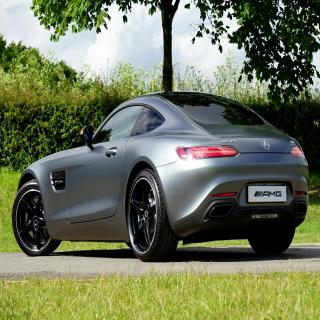Normal_vehicle: (13, 91, 310, 262)
